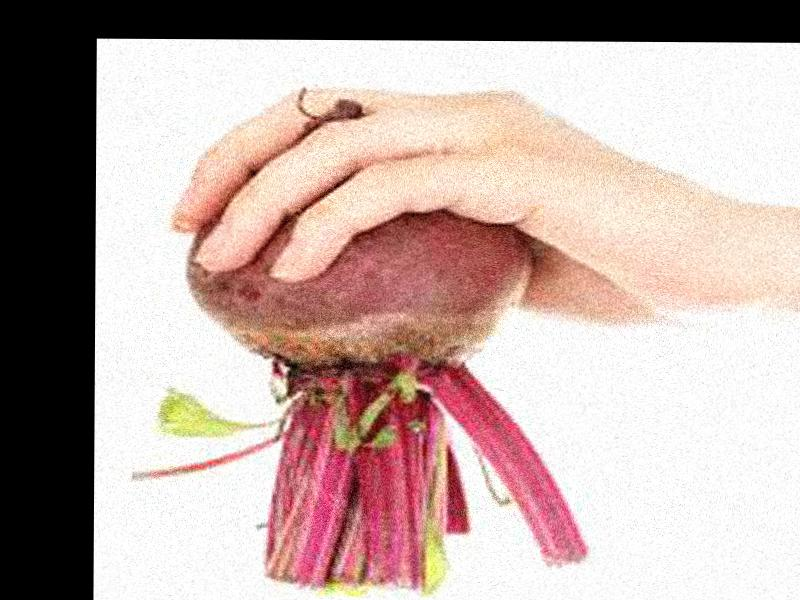Beet: (132, 95, 589, 594)
